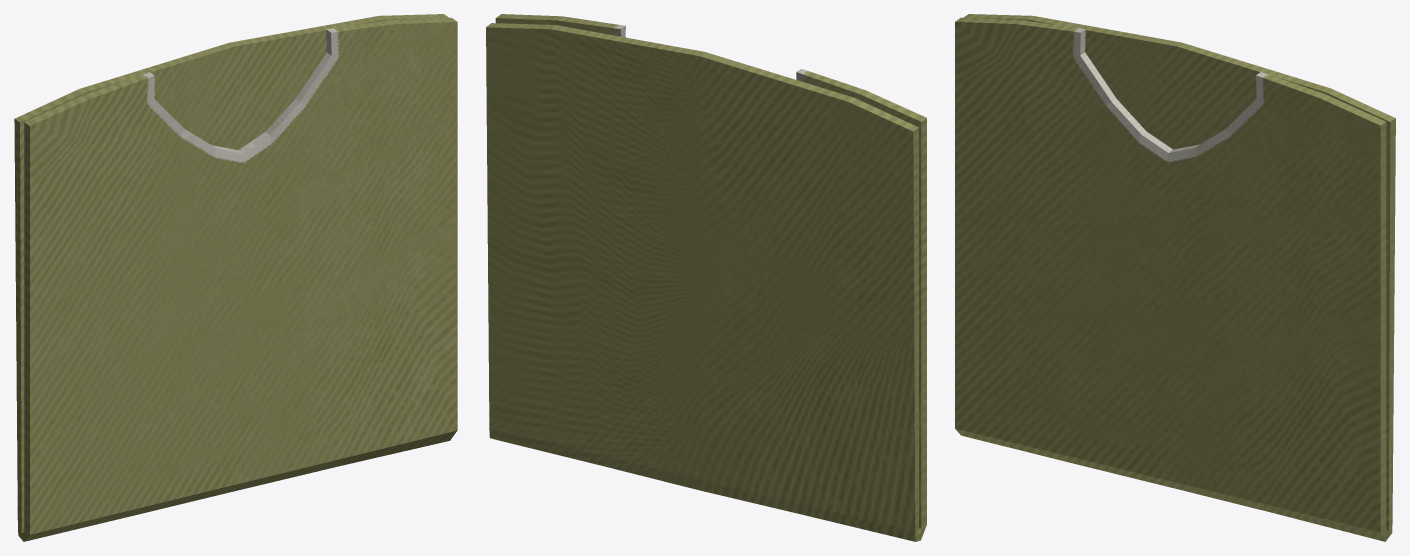
The model's file is camisa.fbx.
3 views of the same model, side by side, from view 1: azimuth 30°, elevation 25°; view 2: azimuth 150°, elevation 25°; view 3: azimuth 330°, elevation 25° (orthographic).
Visible parts, largest first — view 1: Plane.002; view 2: Plane.002; view 3: Plane.002.
Boxes of the visible parts, left/top/right/bottom form: Plane.002: left=14, top=14, right=457, bottom=541; Plane.002: left=486, top=14, right=926, bottom=541; Plane.002: left=955, top=14, right=1395, bottom=541.
Bounding box in the file's own units: 35.25 × 34.82 × 2.08.
